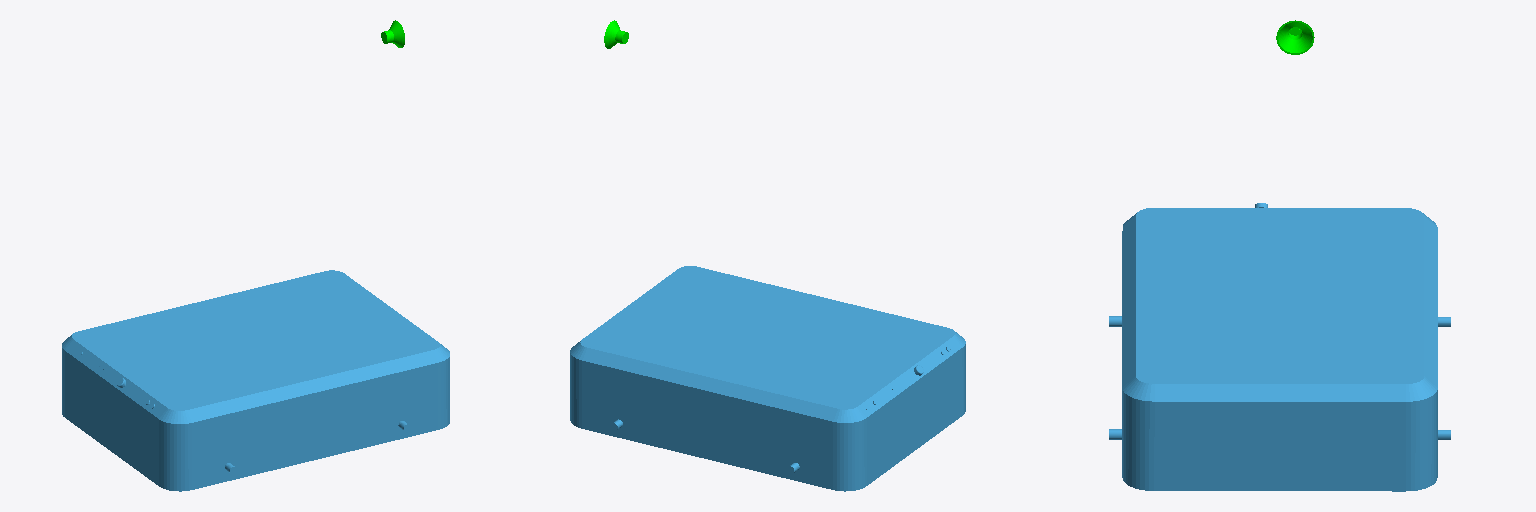
URDF robot description (abb_irb2400):
<?xml version="1.0" ?>
<!-- =================================================================================== -->
<!-- |    This document was autogenerated by xacro from irb2400.xacro                  | -->
<!-- |    EDITING THIS FILE BY HAND IS NOT RECOMMENDED                                 | -->
<!-- =================================================================================== -->
<robot name="abb_irb2400" xmlns:xacro="http://ros.org/wiki/xacro">
  <!-- Conversion were obtained from http://www.e-paint.co.uk/Lab_values.asp
       unless otherwise stated. -->
  <!-- Actual colors -->
  <!-- NCS 2070-Y60R orange, standard robot color 1974 - May 2014 -->
  <!-- RAL 7035 light grey (abb graphite white), standard robot color May 2014 - current -->
  <!-- RAL 9003 signal white (abb white), clean room robot color -->
  <!-- RAL 7032 pebble gray, controller -->
  <!-- RAL 7012 basalt gray (abb dark gray) , robot primer -->
  <!-- RAL 7021 black gray (abb black) , robot with dark link color -->
  <!-- Other robot colours available, but not limited too. -->
  <!-- RAL 3001 signal red -->
  <!-- RAL 3002 carmine red -->
  <!-- RAL 5002 ultramarine blue -->
  <!-- RAL 5015 sky blue -->
  <!-- RAL 6002 leaf green -->
  <!-- RAL 9002 gray white -->
  <!-- RAL 9010 pure white -->
  <!-- approximations -->
  <!-- yellow, collision model -->
  <!-- link list -->
  <link name="base_link">
    <visual>
      <origin rpy="0 0 0" xyz="0 0 0"/>
      <geometry>
        <mesh filename="package://abb_irb2400_support/meshes/irb2400/visual/base_link.dae"/>
      </geometry>
      <material name="">
        <color rgba="0.7372549 0.3490196 0.1607843 1"/>
      </material>
    </visual>
    <collision>
      <geometry>
        <mesh filename="package://abb_irb2400_support/meshes/irb2400/collision/base_link.stl"/>
      </geometry>
      <material name="">
        <color rgba="1 1 0 1"/>
      </material>
    </collision>
  </link>
  <link name="link_1">
    <visual>
      <origin rpy="0 0 0" xyz="0 0 0"/>
      <geometry>
        <mesh filename="package://abb_irb2400_support/meshes/irb2400/visual/link_1.dae"/>
      </geometry>
      <material name="">
        <color rgba="0.7372549 0.3490196 0.1607843 1"/>
      </material>
    </visual>
    <collision>
      <origin rpy="0 0 0" xyz="0 0 0"/>
      <geometry>
        <mesh filename="package://abb_irb2400_support/meshes/irb2400/collision/link_1.stl"/>
      </geometry>
      <material name="">
        <color rgba="1 1 0 1"/>
      </material>
    </collision>
  </link>
  <link name="link_2">
    <visual>
      <origin rpy="0 0 0" xyz="0 0 0"/>
      <geometry>
        <mesh filename="package://abb_irb2400_support/meshes/irb2400/visual/link_2.dae"/>
      </geometry>
      <material name="">
        <color rgba="0.7372549 0.3490196 0.1607843 1"/>
      </material>
    </visual>
    <collision>
      <origin rpy="0 0 0" xyz="0 0 0"/>
      <geometry>
        <mesh filename="package://abb_irb2400_support/meshes/irb2400/collision/link_2_whole.stl"/>
      </geometry>
      <material name="">
        <color rgba="1 1 0 1"/>
      </material>
    </collision>
  </link>
  <link name="link_3">
    <visual>
      <origin rpy="0 0 0" xyz="0 0 0"/>
      <geometry>
        <mesh filename="package://abb_irb2400_support/meshes/irb2400/visual/link_3.dae"/>
      </geometry>
      <material name="">
        <color rgba="0.7372549 0.3490196 0.1607843 1"/>
      </material>
    </visual>
    <collision>
      <origin rpy="0 0 0" xyz="0 0 0"/>
      <geometry>
        <mesh filename="package://abb_irb2400_support/meshes/irb2400/collision/link_3.stl"/>
      </geometry>
      <material name="">
        <color rgba="1 1 0 1"/>
      </material>
    </collision>
  </link>
  <link name="link_4">
    <visual>
      <origin rpy="0 0 0" xyz="0 0 0"/>
      <geometry>
        <mesh filename="package://abb_irb2400_support/meshes/irb2400/visual/link_4.dae"/>
      </geometry>
      <material name="">
        <color rgba="0.7372549 0.3490196 0.1607843 1"/>
      </material>
    </visual>
    <collision>
      <origin rpy="0 0 0" xyz="0 0 0"/>
      <geometry>
        <mesh filename="package://abb_irb2400_support/meshes/irb2400/collision/link_4.stl"/>
      </geometry>
      <material name="">
        <color rgba="1 1 0 1"/>
      </material>
    </collision>
  </link>
  <link name="link_5">
    <visual>
      <origin rpy="0 0 0" xyz="0 0 0"/>
      <geometry>
        <mesh filename="package://abb_irb2400_support/meshes/irb2400/visual/link_5.dae"/>
      </geometry>
      <material name="">
        <color rgba="0.7372549 0.3490196 0.1607843 1"/>
      </material>
    </visual>
    <collision>
      <origin rpy="0 0 0" xyz="0 0 0"/>
      <geometry>
        <mesh filename="package://abb_irb2400_support/meshes/irb2400/collision/link_5.stl"/>
      </geometry>
      <material name="">
        <color rgba="1 1 0 1"/>
      </material>
    </collision>
  </link>
  <link name="link_6">
    <visual>
      <origin rpy="0 0 0" xyz="0 0 0"/>
      <geometry>
        <mesh filename="package://abb_irb2400_support/meshes/irb2400/visual/link_6.dae"/>
      </geometry>
      <material name="">
        <color rgba="0.1882353 0.1960784 0.2039216 1"/>
      </material>
    </visual>
    <collision>
      <origin rpy="0 0 0" xyz="0 0 0"/>
      <geometry>
        <mesh filename="package://abb_irb2400_support/meshes/irb2400/collision/link_6.stl"/>
      </geometry>
      <material name="">
        <color rgba="1 1 0 1"/>
      </material>
    </collision>
  </link>
  <link name="tool0"/>
  <!-- end of link list -->

<!--Dummy link-->
  <link name="dummy"/>

<!--  Start of Mobile Base Links-->
  <!--Chassis-->
  <link name = "chassis">
    <visual>
      <origin rpy = "3.14 0 0" xyz = "0 0 0"/>
      <geometry>
        <mesh filename="package://abb_irb2400_support/meshes/irb2400/visual/mobile_base.dae" />
      </geometry>
    </visual>
    <collision>
      <origin rpy = "3.14 0 0" xyz = "0 0 0"/>
      <geometry>
        <mesh filename="package://abb_irb2400_support/meshes/irb2400/collision/mobile_base.stl" />
      </geometry>
    </collision>
  </link>

  <!--    Right Back Wheel-->
  <link name = "right_back_wheel">
    <visual>
      <origin rpy="1.57 0 0" xyz ="0 0 0"/>
      <geometry>
        <mesh filename="package://abb_irb2400_support/meshes/irb2400/visual/wheel_mobile_base.dae" />
      </geometry>
      <material name = "Black">
        <color rgba = "0 0 0 1"/>
      </material>
    </visual>
    <collision>
      <origin rpy="1.57 0 0" xyz ="0 0 0"/>
      <geometry>
        <mesh filename="package://abb_irb2400_support/meshes/irb2400/collision/wheel_mobile_base.stl" />
      </geometry>
    </collision>
  </link>

  <!--    Right Front Wheel-->
  <link name = "right_front_wheel">
    <visual>
      <origin rpy="1.57 0 0" xyz ="0 0 0"/>
      <geometry>
        <mesh filename="package://abb_irb2400_support/meshes/irb2400/visual/wheel_mobile_base.dae" />
      </geometry>
      <material name = "Black">
        <color rgba = "0 0 0 1"/>
      </material>
    </visual>
    <collision>
      <origin rpy="1.57 0 0" xyz ="0 0 0"/>
      <geometry>
        <mesh filename="package://abb_irb2400_support/meshes/irb2400/collision/wheel_mobile_base.stl" />
      </geometry>
    </collision>
  </link>

  <!--   Left Back Wheel-->
  <link name = "left_back_wheel">
    <visual>
      <origin rpy="1.57 0 0" xyz ="0 0 0"/>
      <geometry>
        <mesh filename="package://abb_irb2400_support/meshes/irb2400/visual/wheel_mobile_base.dae" />
      </geometry>
      <material name = "Black">
        <color rgba = "0 0 0 1"/>
      </material>
    </visual>
    <collision>
      <origin rpy="1.57 0 0" xyz ="0 0 0"/>
      <geometry>
        <mesh filename="package://abb_irb2400_support/meshes/irb2400/collision/wheel_mobile_base.stl" />
      </geometry>
    </collision>
  </link>

  <!--    Left Front Wheel-->
  <link name = "left_front_wheel">
    <visual>
      <origin rpy="1.57 0 0" xyz ="0 0 0"/>
      <geometry>
        <mesh filename="package://abb_irb2400_support/meshes/irb2400/visual/wheel_mobile_base.dae" />
      </geometry>
      <material name = "Black">
        <color rgba = "0 0 0 1"/>
      </material>
    </visual>
    <collision>
      <origin rpy="1.57 0 0" xyz ="0 0 0"/>
      <geometry>
        <mesh filename="package://abb_irb2400_support/meshes/irb2400/collision/wheel_mobile_base.stl" />
      </geometry>
    </collision>
  </link>
<!--End of Mobile Base links-->

<!--  Suction Cup Start-->
  <link name = "suction_cup_end_effector">
    <visual>
      <origin rpy="0 0 0" xyz ="0 0 0.0001"/>
      <geometry>
        <mesh filename="package://abb_irb2400_support/meshes/irb2400/visual/suction_cup.dae" />
      </geometry>
      <material name = "red">
        <color rgba = "0 1 0 1"/>
      </material>
    </visual>
    <collision>
      <origin rpy="0 0 0" xyz ="0 0 0"/>
      <geometry>
        <mesh filename="package://abb_irb2400_support/meshes/irb2400/collision/suction_cup.stl" />
      </geometry>
    </collision>
  </link>
  <!-- Suction Cup End -->

  <!-- joint list -->
  <joint name="joint_1" type="revolute">
    <origin rpy="0 0 0" xyz="0 0 0"/>
    <parent link="base_link"/>
    <child link="link_1"/>
    <axis xyz="0 0 1"/>
    <limit effort="0" lower="-3.1416" upper="3.1416" velocity="2.618"/>
  </joint>
  <joint name="joint_2" type="revolute">
    <origin rpy="0 0 0" xyz="0.1 0 0.615"/>
    <parent link="link_1"/>
    <child link="link_2"/>
    <axis xyz="0 1 0"/>
    <limit effort="0" lower="-1.7453" upper="1.9199" velocity="2.618"/>
  </joint>
  <joint name="joint_3" type="revolute">
    <origin rpy="0 0 0" xyz="0 0 0.705"/>
    <parent link="link_2"/>
    <child link="link_3"/>
    <axis xyz="0 1 0"/>
    <limit effort="0" lower="-1.0472" upper="1.1345" velocity="2.618"/>
  </joint>
  <joint name="joint_4" type="revolute">
    <origin rpy="0 0 0" xyz="0.258 0 0.135"/>
    <parent link="link_3"/>
    <child link="link_4"/>
    <axis xyz="1 0 0"/>
    <limit effort="0" lower="-3.49" upper="3.49" velocity="6.2832"/>
  </joint>
  <joint name="joint_5" type="revolute">
    <origin rpy="0 0 0" xyz="0.497 0 0"/>
    <parent link="link_4"/>
    <child link="link_5"/>
    <axis xyz="0 1 0"/>
    <limit effort="0" lower="-2.0944" upper="2.0944" velocity="6.2832"/>
  </joint>
  <joint name="joint_6" type="revolute">
    <origin rpy="0 0 0" xyz="0.085 0 0"/>
    <parent link="link_5"/>
    <child link="link_6"/>
    <axis xyz="1 0 0"/>
    <limit effort="0" lower="-6.9813" upper="6.9813" velocity="7.854"/>
  </joint>
  <joint name="joint_6-tool0" type="fixed">
    <parent link="link_6"/>
    <child link="tool0"/>
    <origin rpy="0 1.57079632679 0" xyz="0 0 0"/>
  </joint>
  <!-- end of joint list -->

  <!-- Start of Mobile base joints -->
  <joint name = "left_front_wheel_joint" type = "continuous">
    <parent link = "chassis"/>
    <child link = "right_back_wheel"/>
    <origin rpy = '0 0 0' xyz="-0.535 -0.76 -0.35"/>
    <axis xyz = "0 1 0"/>
    <limit effort = "100" velocity = "100"/>
    <dynamics damping = "0.0" friction = "0.0"/>
  </joint>

  <joint name = "left_back_wheel_joint" type = "continuous">
    <parent link = "chassis"/>
    <child link = "right_front_wheel"/>
    <origin rpy = '0 0 0' xyz="0.465 -0.76 -0.35"/>
    <axis xyz = "0 1 0"/>
    <limit effort = "100" velocity = "100"/>
    <dynamics damping = "0.0" friction = "0.0"/>
  </joint>

  <joint name = "right_front_wheel_joint" type = "continuous">
    <parent link = "chassis"/>
    <child link = "left_back_wheel"/>
    <origin xyz="-0.535 0.64 -0.35" rpy = "0 0 0" />
    <axis xyz = "0 1 0"/>
    <limit effort = "100" velocity = "100"/>
    <dynamics damping = "0.0" friction = "0.0"/>
  </joint>

  <joint name = "right_back_wheel_joint" type = "continuous">
    <parent link = "chassis"/>
    <child link = "left_front_wheel"/>
    <origin rpy = '0 0 0' xyz="0.465 0.64 -0.35"/>
    <axis xyz = "0 1 0"/>
    <limit effort = "100" velocity = "100"/>
    <dynamics damping = "0.0" friction = "0.0"/>
  </joint>

<!--  End of Mobile base joints-->

<!-- Suction Cup joint -->
  <joint name="suction_to_tool0" type="fixed">
    <parent link="tool0"/>
    <child link="suction_cup_end_effector"/>
    <origin rpy="0 0 0" xyz="0 0 0"/>
  </joint>
<!--  End-->

  <joint name="dummy_joint" type="fixed">
    <parent link="dummy"/>
    <child link="chassis"/>
    <origin xyz="0.0 0.0 0.43" rpy="0 0 0" />
  </joint>

<!--  ABB robots connection to chassis base-->
  <joint name="chassis_to_base_link" type="fixed">
    <origin rpy="0 0 0" xyz="-0.2 0 0"/>
    <parent link="chassis"/>
    <child link="base_link"/>
  </joint>
</robot>

--- What the picture shows (computed from the rendered views, not written in the file) ---
Views: 3 orthographic renders of the robot side by side, from view 1: azimuth 30°, elevation 25°; view 2: azimuth 150°, elevation 25°; view 3: azimuth 270°, elevation 25°.
Model abb_irb2400 with 15 links and 14 joints (6 revolute, 4 continuous, 4 fixed), rooted at dummy, posed all joints at 0.
Links seen in each view (by area): view 1: chassis; view 2: chassis; view 3: chassis, suction_cup_end_effector.
Link boxes in pixels (x1,y1,x2,y2): chassis: (62,270,449,491); chassis: (570,266,965,491); chassis: (1109,203,1450,491); suction_cup_end_effector: (1276,20,1314,54).
Bounding box of the posed robot: 1.69 × 1.28 × 1.96 m (x, y, z).
Meshes: 10 distinct files referenced, 2 mesh visuals loaded (2 Collada DAE); not drawn: 11 (reference not matched to a file when rendering).